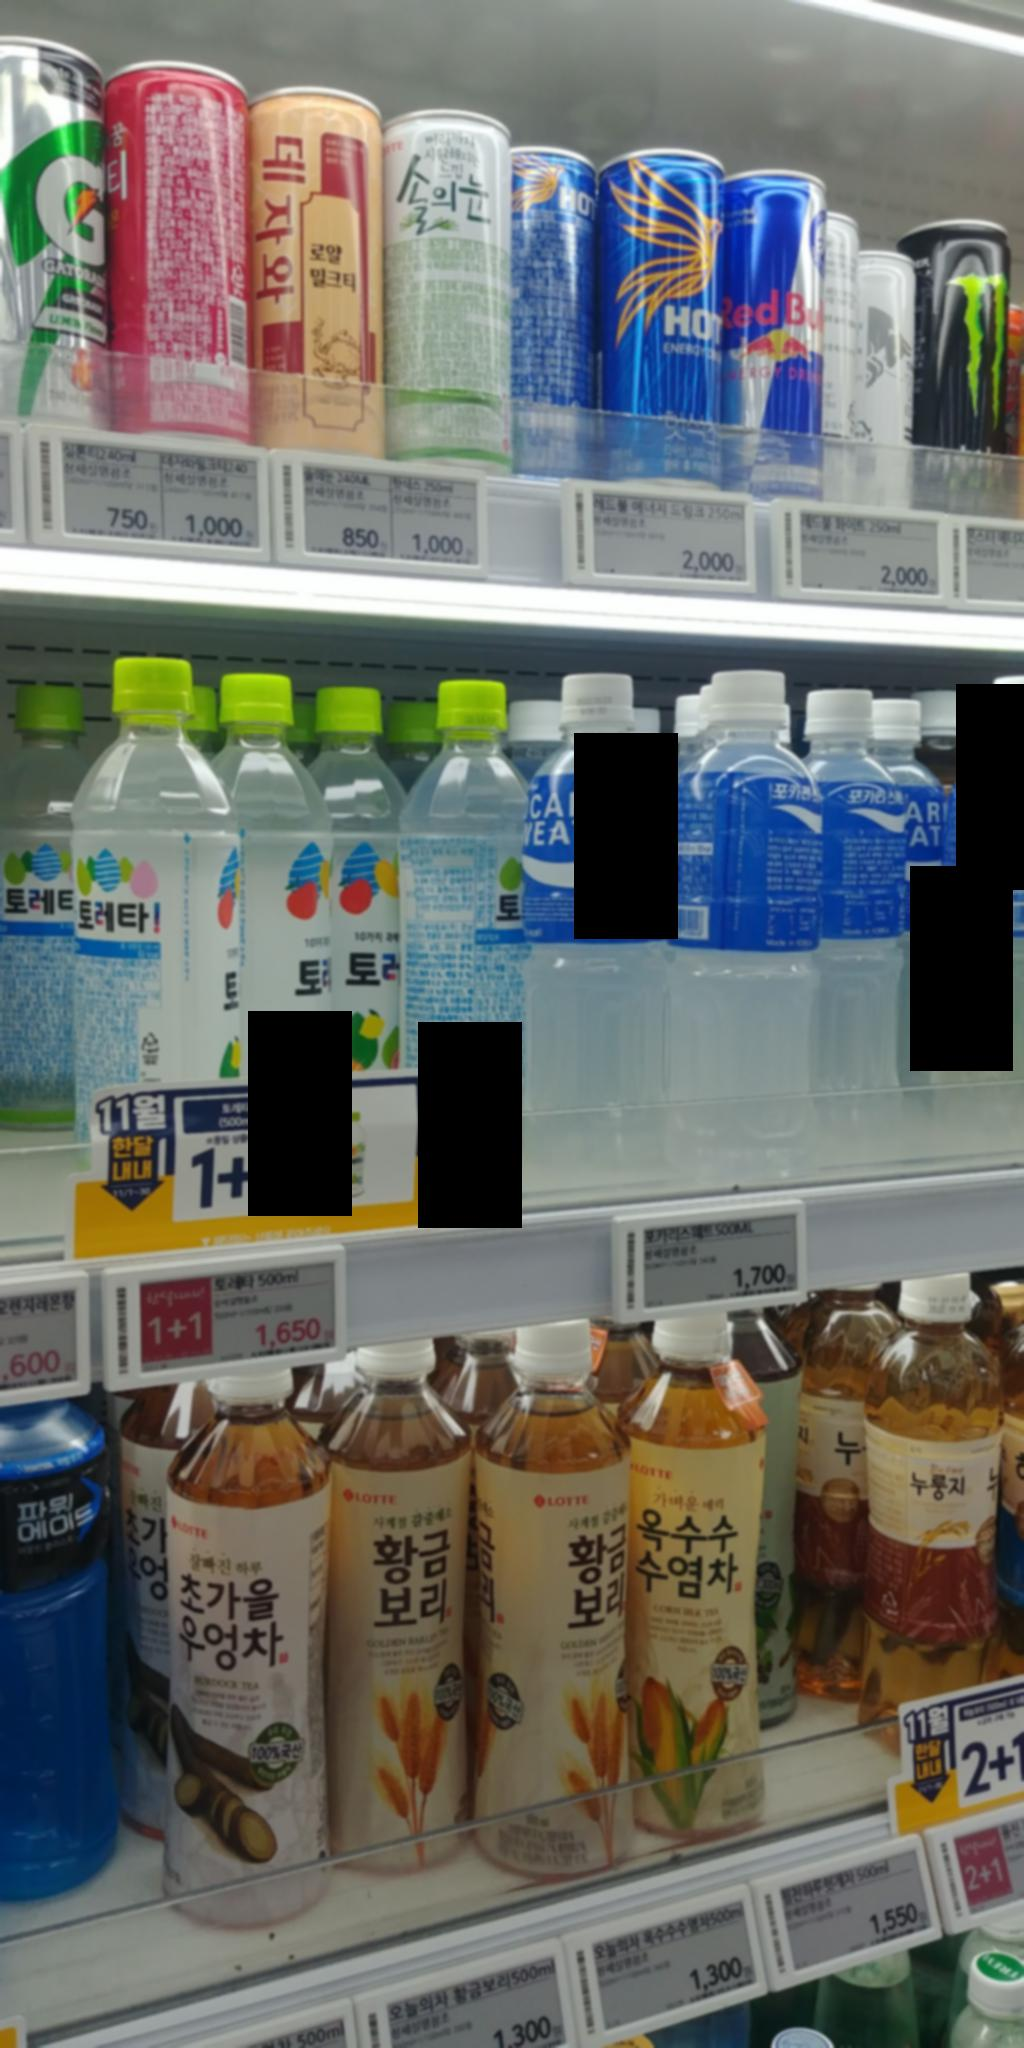hotsix_org: (592, 142, 730, 491), (498, 136, 609, 485)
pocarisweat: (650, 662, 818, 1196), (517, 660, 669, 1199), (77, 657, 246, 1087), (394, 660, 539, 1132), (808, 677, 916, 1191), (209, 670, 334, 1071)
powerade_mountainblast: (0, 1398, 138, 1912)
